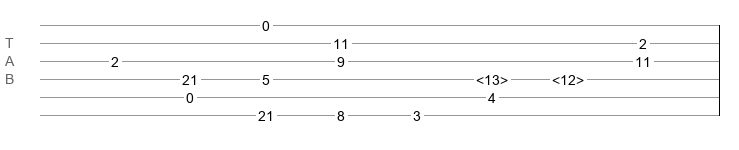0: (186, 90, 194, 100), (262, 18, 270, 28)
11: (333, 36, 349, 46), (635, 54, 651, 64)
2: (111, 54, 119, 64), (639, 36, 647, 46)
21: (182, 72, 198, 82), (258, 108, 274, 118)
3: (413, 108, 421, 118)
4: (488, 90, 496, 100)
5: (262, 72, 270, 82)
8: (337, 108, 345, 118)
9: (337, 54, 345, 64)
harmonic: (476, 72, 508, 82), (552, 72, 584, 82)
